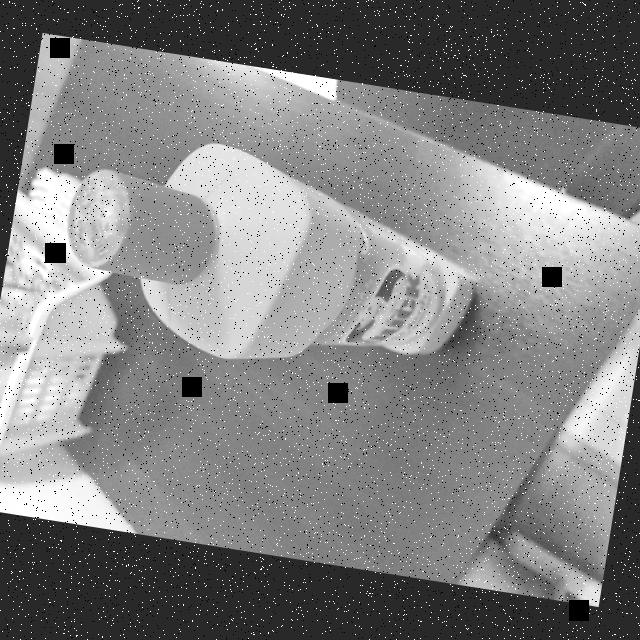chemical_plastic_bottle: (43, 111, 493, 402)
